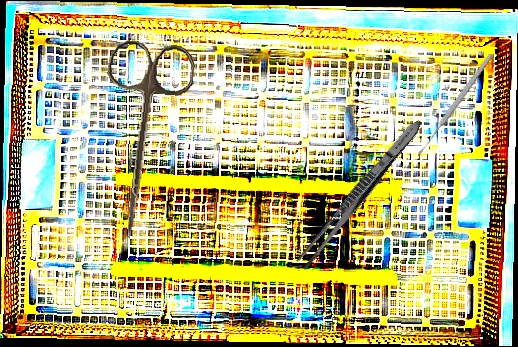Dressing Forceps: (293, 115, 427, 273)
Iris Scissors: (90, 38, 197, 244)
Surgical Spoon: (415, 52, 495, 157)
